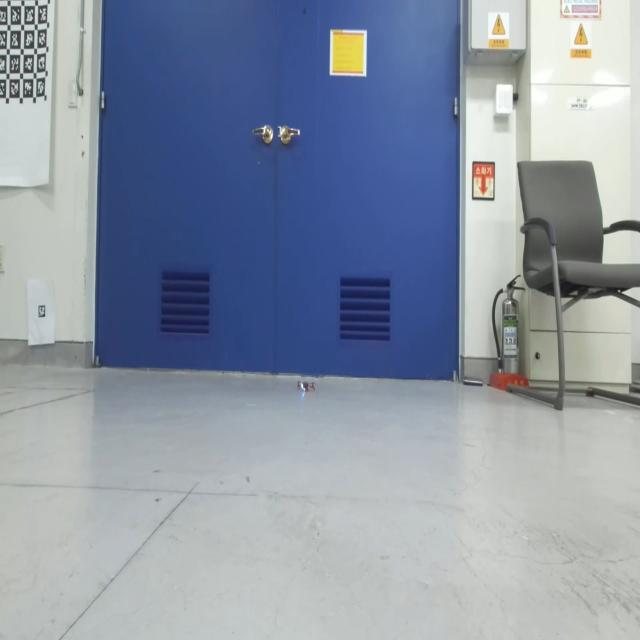crazyflie: (294, 373, 319, 397)
